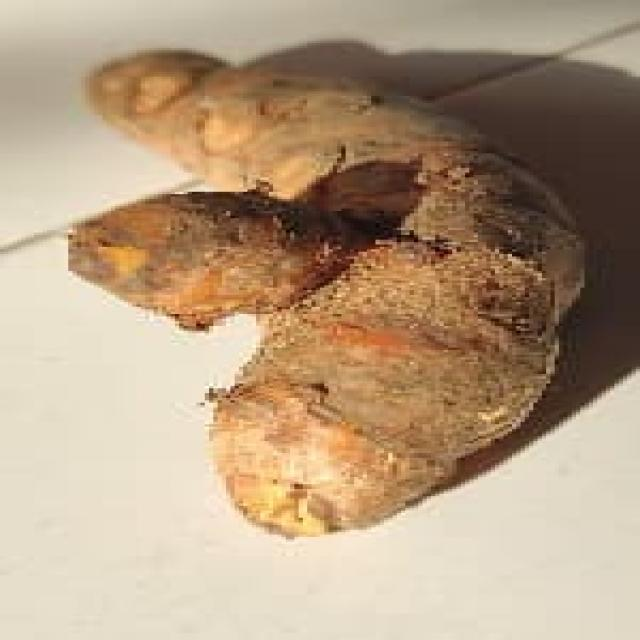ginger: (95, 51, 581, 516)
